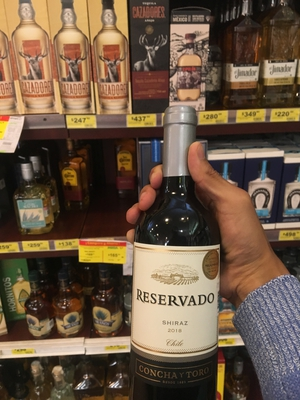reservado shiraz: (134, 88, 242, 400)
